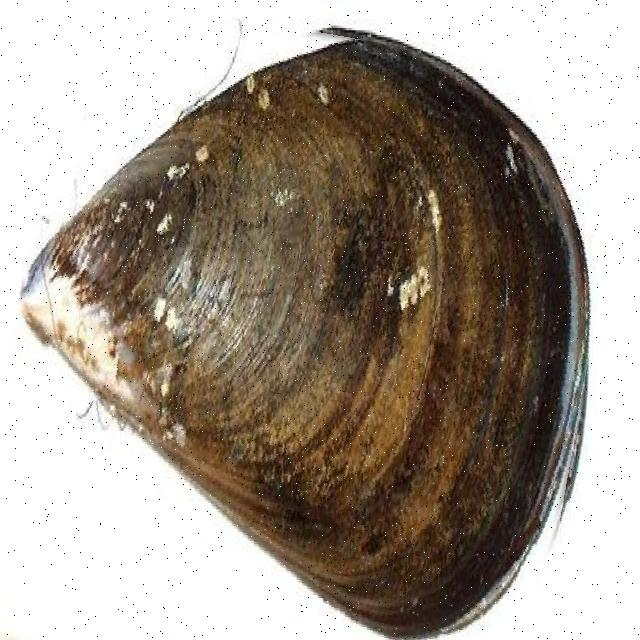Mytilus_galloprovincialis: (0, 11, 612, 640)
